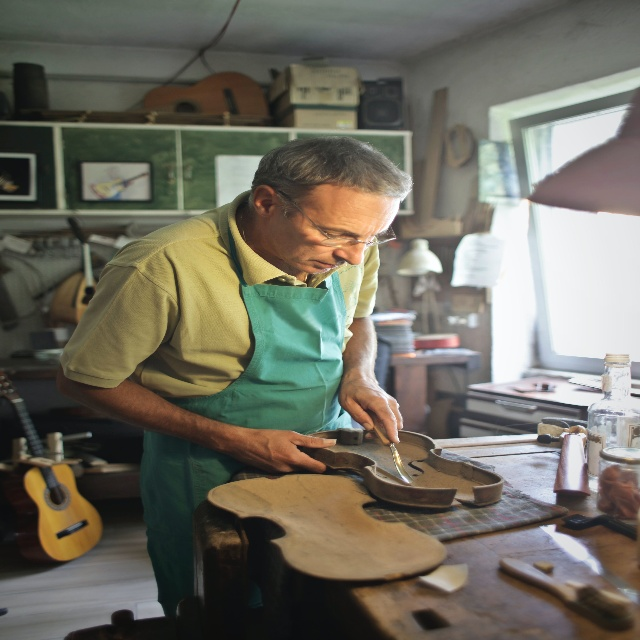Gafas: (277, 190, 397, 248)
Sin_guantes: (239, 429, 337, 475), (338, 376, 404, 444)
